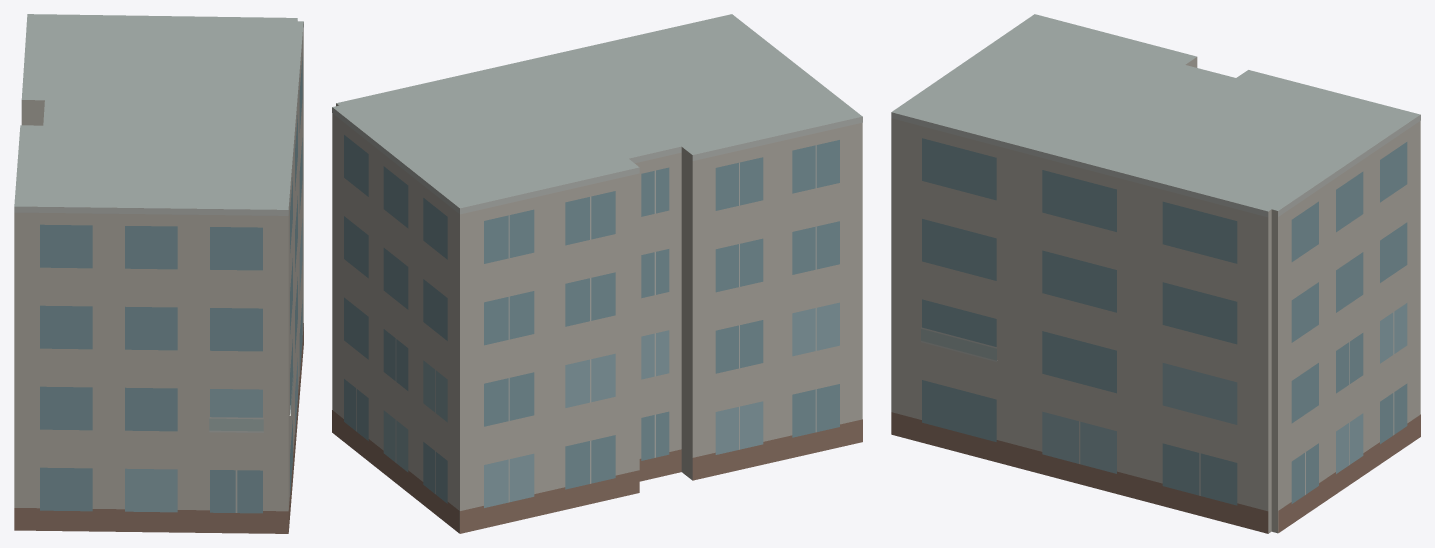
Rendered from survey-upis-32662146.glb.
The picture shows the model from 3 angles, left to right: view 1: azimuth 30°, elevation 25°; view 2: azimuth 150°, elevation 25°; view 3: azimuth 270°, elevation 25°; orthographic projection.
Visible parts, largest first — view 1: survey-upis-32662146.tmp; view 2: survey-upis-32662146.tmp; view 3: survey-upis-32662146.tmp.
Part boxes in pixels (x1,y1,x2,y2): survey-upis-32662146.tmp: (14, 14, 303, 533); survey-upis-32662146.tmp: (332, 14, 862, 533); survey-upis-32662146.tmp: (891, 14, 1420, 533).
Size of the model in its own units: 17.29 by 13.15 by 19.58.
